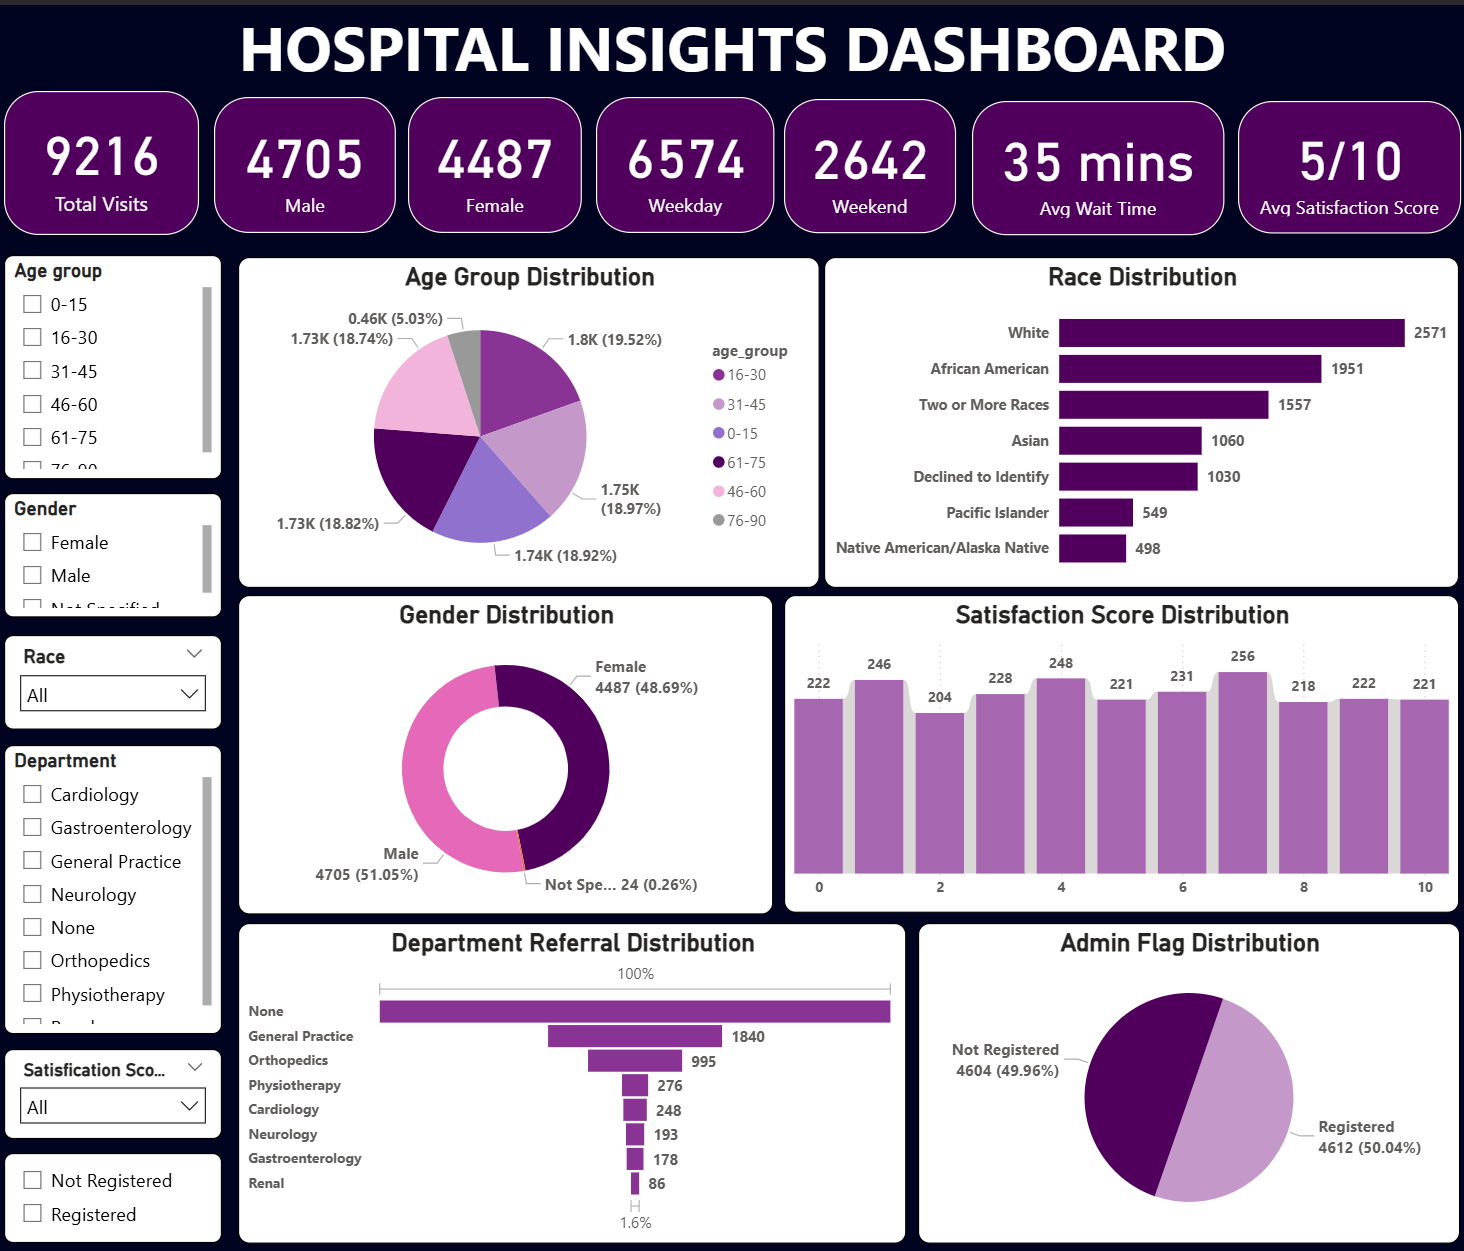

Layout of this report page (visuals, bound fields, positions):
{"tool":"powerbi","page":{"name":"Page 2","canvas":[1282,1086],"ordinal":1},"visuals":[{"type":"card","fields":{"Values":["Count(patient table.patient_id)"]},"box":[5.7,74.3,170,125.7],"z":0},{"type":"card","fields":{"Values":["CountNonNull(patient table.patient_gender)"]},"box":[187.7,79.8,158.6,118.6],"z":1000},{"type":"card","fields":{"Values":["CountNonNull(patient table.patient_gender)"]},"box":[357.1,80,151.4,118.6],"z":2000},{"type":"card","fields":{"Values":["date_time table.Avg Wait Time"]},"box":[848.6,82.9,220,117.1],"z":3000},{"type":"card","fields":{"Values":["date_time table.Avg Satisfication Score"]},"box":[1080,82.9,194.3,115.7],"z":4000},{"type":"card","fields":{"Values":["CountNonNull(date_time table.weekday/weekend)"]},"box":[521.4,80,155.7,118.6],"z":5000},{"type":"card","fields":{"Values":["CountNonNull(date_time table.weekday/weekend)"]},"box":[685.7,81.4,150,117.1],"z":6000},{"type":"textbox","box":[0,0,1280,74.3],"z":7000},{"type":"slicer","fields":{"Values":["patient table.patient_race"]},"box":[5.8,549.3,189.9,82.6],"z":8000},{"type":"slicer","title":"Age group","fields":{"Values":["patient table.age_group"]},"box":[5.8,217.4,189.9,195.7],"z":9000},{"type":"slicer","title":"Gender","fields":{"Values":["patient table.patient_gender"]},"box":[5.8,426.1,189.9,108.7],"z":10000},{"type":"slicer","title":"Department","fields":{"Values":["activity table.department_referral"]},"box":[5.8,644.9,189.9,252.2],"z":11000},{"type":"slicer","fields":{"Values":["activity table.satisfication_score"]},"box":[5.8,910.1,189.9,78.3],"z":12000},{"type":"pieChart","title":"Age Group Distribution","fields":{"Category":["patient table.age_bucket"],"Y":["CountNonNull(patient table.age_group)"]},"box":[208.7,218.8,507.2,288.4],"z":13000},{"type":"clusteredBarChart","title":"Race Distribution","fields":{"Category":["patient table.patient_race"],"Y":["CountNonNull(patient table.patient_race)"]},"box":[720.3,218.8,553.6,288.4],"z":14000},{"type":"donutChart","title":"Gender Distribution","fields":{"Category":["patient table.patient_gender"],"Y":["CountNonNull(patient table.patient_gender)"]},"box":[208.7,514.5,466.7,278.3],"z":15000},{"type":"funnel","title":"Department Referral Distribution","fields":{"Category":["activity table.department_referral"],"Y":["CountNonNull(activity table.department_referral)"]},"box":[208.7,800,582.6,279.7],"z":16000},{"type":"columnChart","title":"Satisfaction Score Distribution","fields":{"Category":["activity table.satisfication_score"],"Y":["CountNonNull(activity table.satisfaction_score)"]},"box":[685.5,514.5,588.4,276.8],"z":17000},{"type":"pieChart","title":"Admin Flag Distribution","fields":{"Category":["activity table.patient_admin_flag"],"Y":["CountNonNull(activity table.patient_admin_flag)"]},"box":[801.4,800,472.5,279.7],"z":18000},{"type":"slicer","fields":{"Values":["activity table.patient_admin_flag"]},"box":[5.8,1001.4,189.9,78.3],"z":19000}]}

Visuals, with their boxes in screenshot pixels (x1, y1, x2, y2), scaled from the page's 1282x1086 canvas onto the 1464x1251 screenshot:
card - Count(patient table.patient_id): select_region(7, 86, 201, 230)
card - CountNonNull(patient table.patient_gender): select_region(214, 92, 395, 229)
card - CountNonNull(patient table.patient_gender): select_region(408, 92, 581, 229)
card - date_time table.Avg Wait Time: select_region(969, 95, 1220, 230)
card - date_time table.Avg Satisfication Score: select_region(1233, 95, 1455, 229)
card - CountNonNull(date_time table.weekday/weekend): select_region(595, 92, 773, 229)
card - CountNonNull(date_time table.weekday/weekend): select_region(783, 94, 954, 229)
textbox: select_region(0, 0, 1462, 86)
slicer - patient table.patient_race: select_region(7, 633, 223, 728)
"Age group" slicer: select_region(7, 250, 223, 476)
"Gender" slicer: select_region(7, 491, 223, 616)
"Department" slicer: select_region(7, 743, 223, 1033)
slicer - activity table.satisfication_score: select_region(7, 1048, 223, 1139)
"Age Group Distribution" pieChart: select_region(238, 252, 818, 584)
"Race Distribution" clusteredBarChart: select_region(823, 252, 1455, 584)
"Gender Distribution" donutChart: select_region(238, 593, 771, 913)
"Department Referral Distribution" funnel: select_region(238, 922, 904, 1244)
"Satisfaction Score Distribution" columnChart: select_region(783, 593, 1455, 912)
"Admin Flag Distribution" pieChart: select_region(915, 922, 1455, 1244)
slicer - activity table.patient_admin_flag: select_region(7, 1154, 223, 1244)
